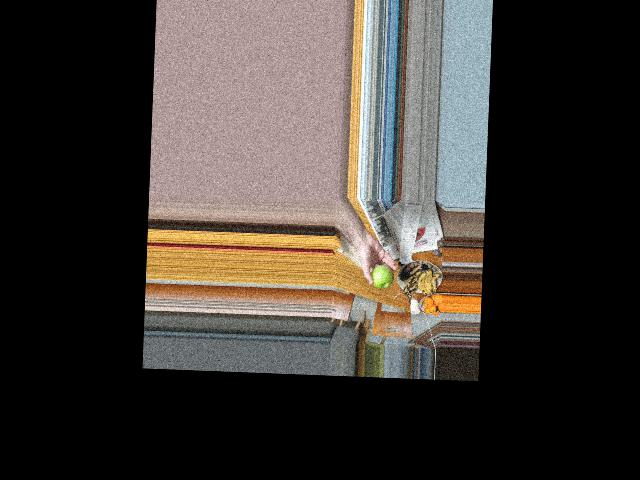apple: (370, 265, 393, 290)
